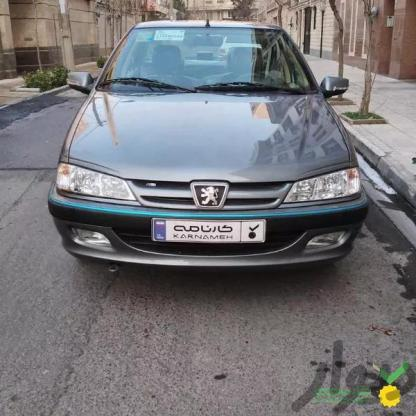Car: (44, 21, 381, 281)
